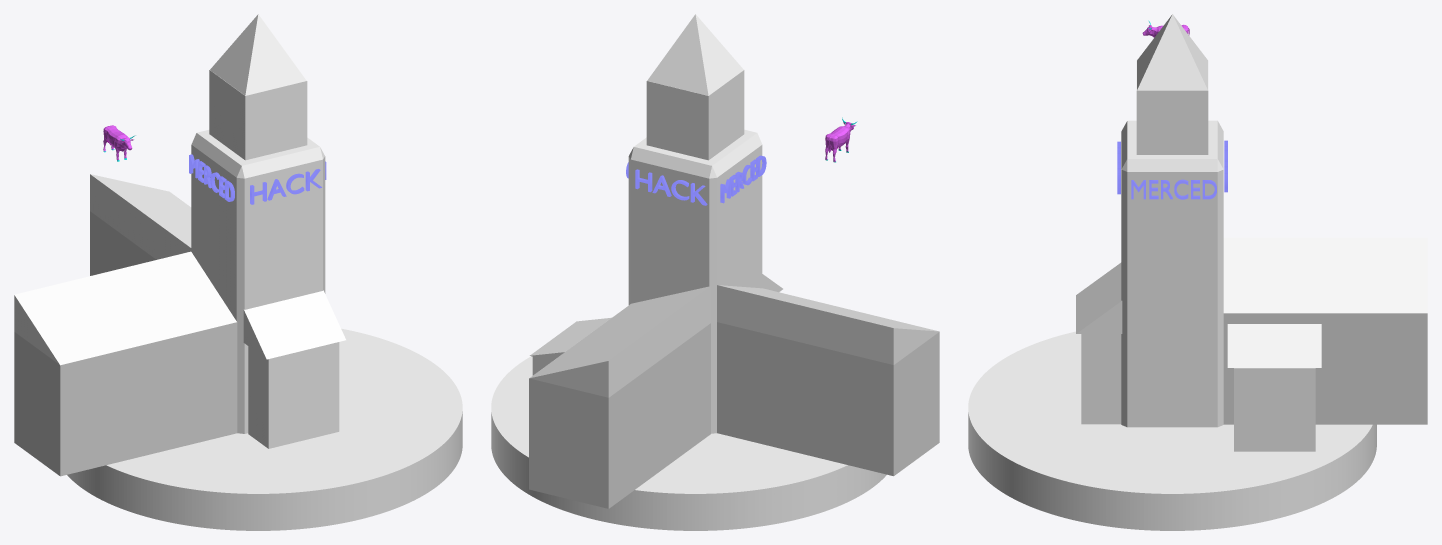
The model's file is hackmerced2.gltf.
The picture shows the model from 3 angles, left to right: view 1: azimuth 30°, elevation 25°; view 2: azimuth 150°, elevation 25°; view 3: azimuth 270°, elevation 25°; orthographic projection.
Visible parts, largest first — view 1: Cylinder, Cube.002, Base, Cube.003, Cube, Head, Cube.005, Cube.001, Roof, Cube.004, Text.003, Text (+1 smaller); view 2: Cube.002, Cylinder, Cube.004, Base, Cube.005, Cube.003, Head, Roof, Cube.008, Text.003, Text.001, Cow; view 3: Cylinder, Base, Cube.005, Cube.004, Cube.009, Head, Cube.008, Roof, Cube, Cube.001, Text.002.
Boxes of the visible parts, x1,y1,x2,y2 form: Cylinder: (67, 328, 462, 530); Cube.002: (14, 322, 237, 476); Base: (191, 130, 325, 433); Cube.003: (14, 251, 236, 365); Cube: (248, 342, 339, 448); Head: (209, 70, 307, 160); Cube.005: (90, 174, 191, 259); Cube.001: (243, 290, 345, 359); Roof: (210, 14, 306, 95); Cube.004: (90, 211, 156, 275); Text.003: (189, 154, 234, 201); Text: (250, 169, 321, 204); Cube.002: (717, 322, 939, 476); Cylinder: (491, 356, 886, 530); Cube.004: (529, 323, 710, 508); Base: (628, 129, 762, 433); Cube.005: (529, 286, 710, 397); Cube.003: (717, 285, 939, 364); Head: (646, 70, 744, 160); Roof: (647, 14, 743, 95); Cube.008: (530, 317, 611, 361); Text.003: (720, 155, 766, 203); Text.001: (635, 169, 707, 205); Cow: (825, 117, 857, 162); Cylinder: (968, 331, 1376, 530); Base: (1121, 120, 1223, 427); Cube.005: (1223, 237, 1427, 313); Cube.004: (1223, 313, 1427, 424); Cube.009: (1234, 368, 1315, 451); Head: (1136, 60, 1208, 154); Cube.008: (1227, 324, 1321, 367); Roof: (1137, 14, 1207, 90); Cube: (1081, 334, 1121, 424); Cube.001: (1076, 262, 1122, 333); Text.002: (1131, 179, 1216, 199).
Bounding box in the file's own units: 22.5 × 23.25 × 22.49.
